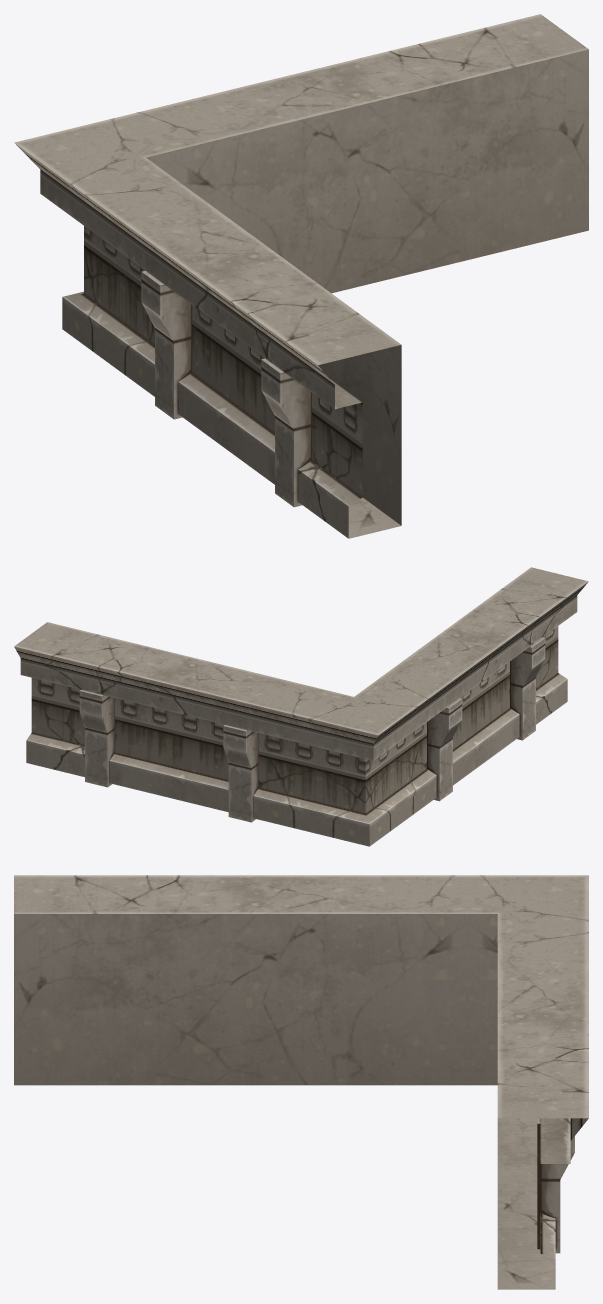
Rendered from cornice01_corner.fbx.
The picture shows the model from 3 angles, top to bottom: view 1: azimuth 30°, elevation 25°; view 2: azimuth 150°, elevation 25°; view 3: azimuth 270°, elevation 25°; orthographic projection. The views are drawn at different scales.
Visible parts, largest first — view 1: cornice01_corner; view 2: cornice01_corner; view 3: cornice01_corner.
Boxes of the visible parts, x1=… form: cornice01_corner: x1=14, y1=14, x2=588, y2=538; cornice01_corner: x1=14, y1=567, x2=588, y2=846; cornice01_corner: x1=14, y1=875, x2=588, y2=1289.
Size of the model in its own units: 380 by 128 by 380.
